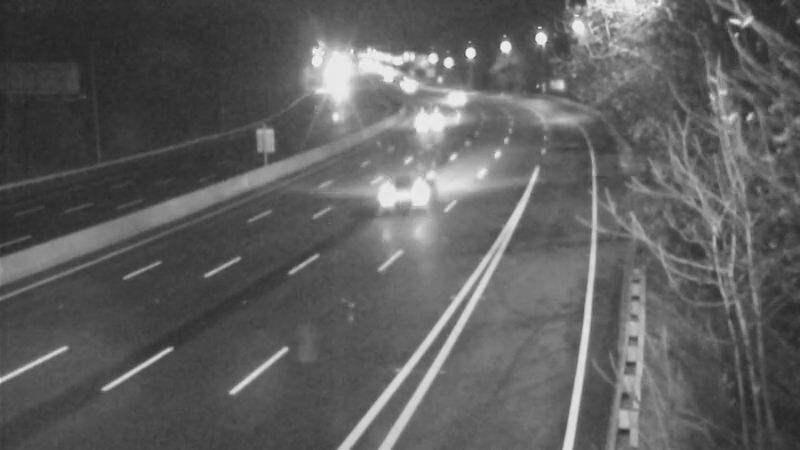vehicle: (378, 150, 458, 230), (381, 61, 431, 111), (428, 71, 478, 121), (398, 99, 448, 149)
